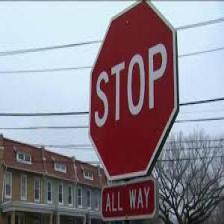Stop: (89, 1, 177, 176)
